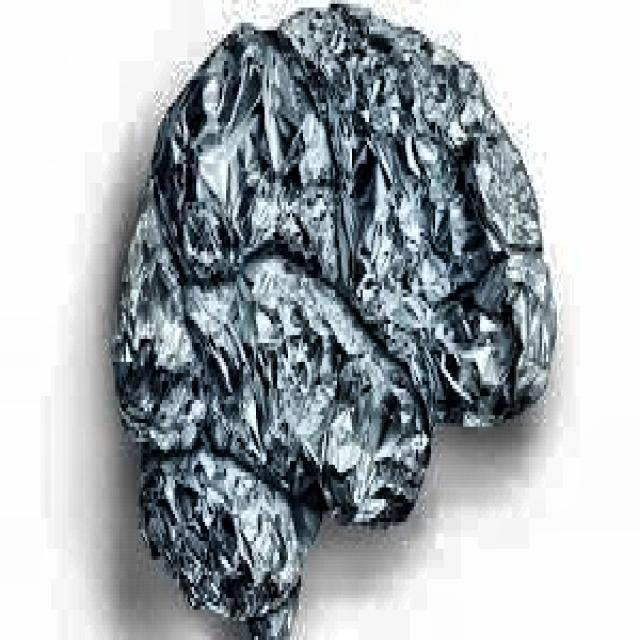Foil: (78, 0, 566, 640)
